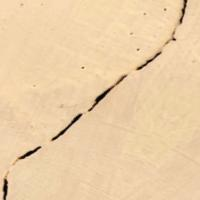crack: (2, 2, 191, 199)
